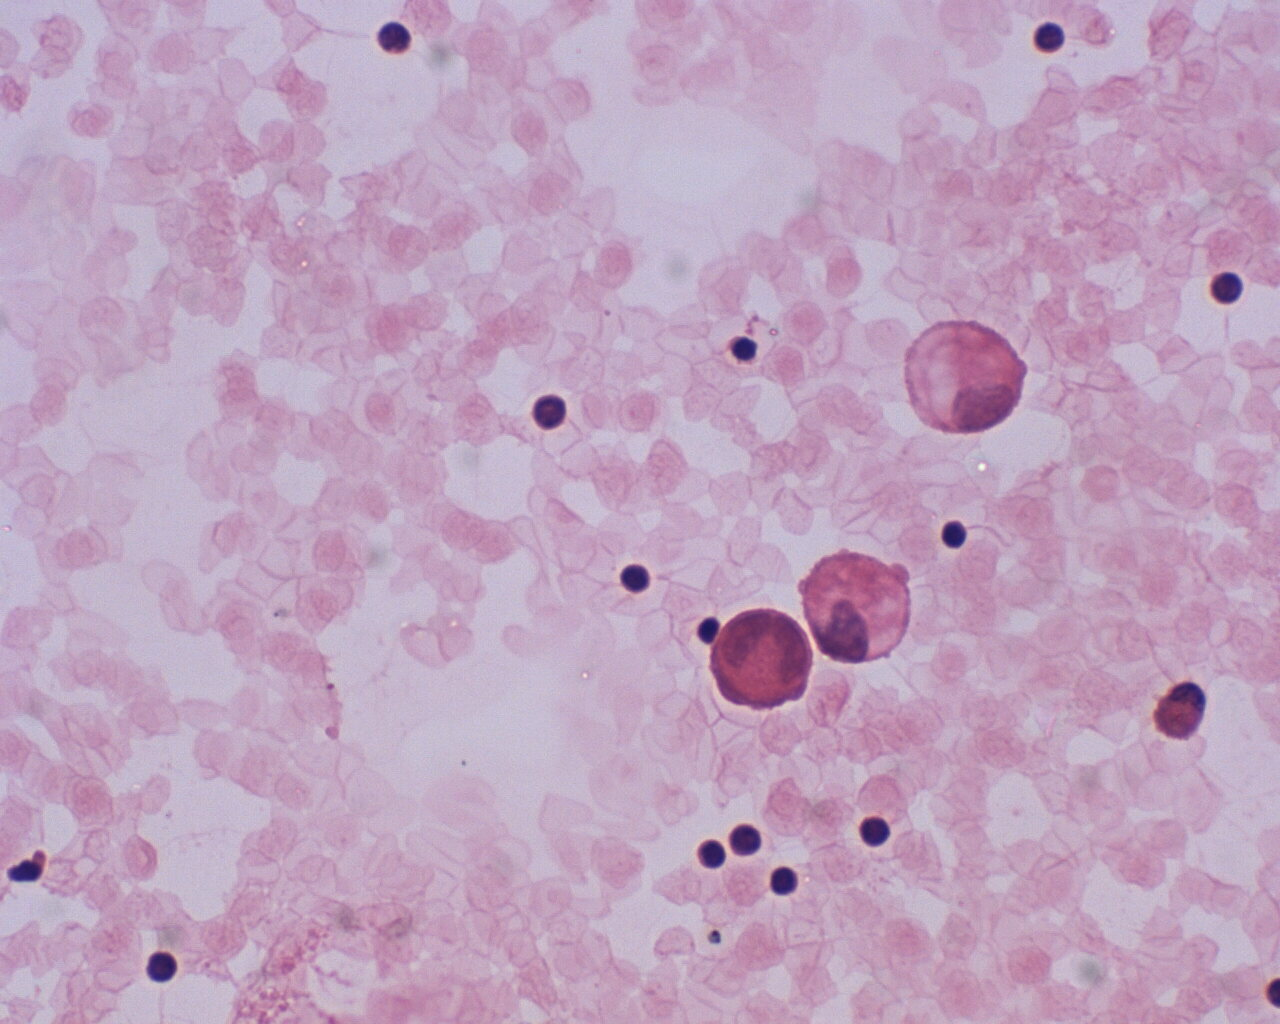ab: (805, 546, 917, 670), (709, 606, 816, 711)
histo: (904, 316, 1024, 439)
lymph: (527, 386, 576, 434), (1025, 11, 1073, 61), (370, 16, 427, 56), (688, 832, 732, 877), (763, 856, 808, 901), (854, 809, 897, 856), (929, 504, 971, 552), (612, 556, 656, 601), (146, 947, 183, 988)
